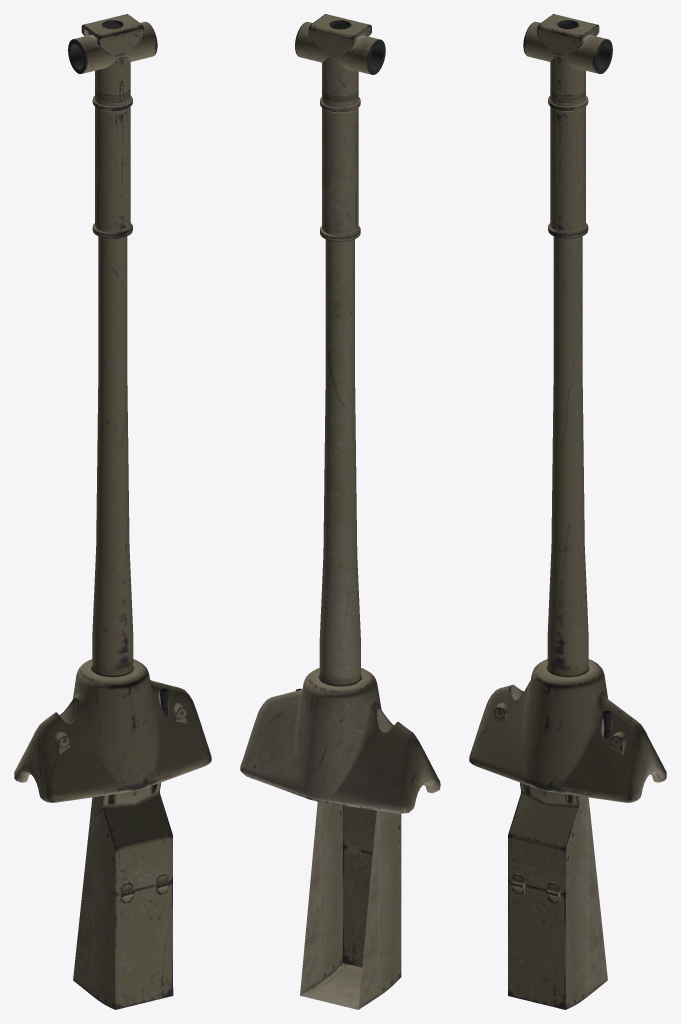
The model's file is Gun_01.glb.
3 views of the same model, side by side, from view 1: azimuth 30°, elevation 25°; view 2: azimuth 150°, elevation 25°; view 3: azimuth 330°, elevation 25° (orthographic).
Visible parts, largest first — view 1: set_0_group_0; view 2: set_0_group_0; view 3: set_0_group_0.
Boxes of the visible parts, bbox=[...] form: set_0_group_0: bbox=[14, 14, 211, 1009]; set_0_group_0: bbox=[240, 14, 440, 1009]; set_0_group_0: bbox=[469, 14, 666, 1009].
Bounding box in the file's own units: 1.14 × 6.19 × 0.7002.
1 material, 1 textured.
